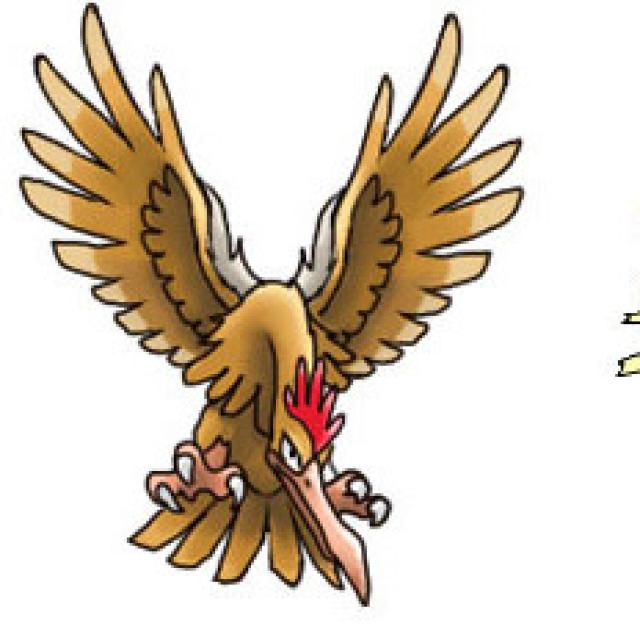Fearow: (122, 68, 423, 604)
